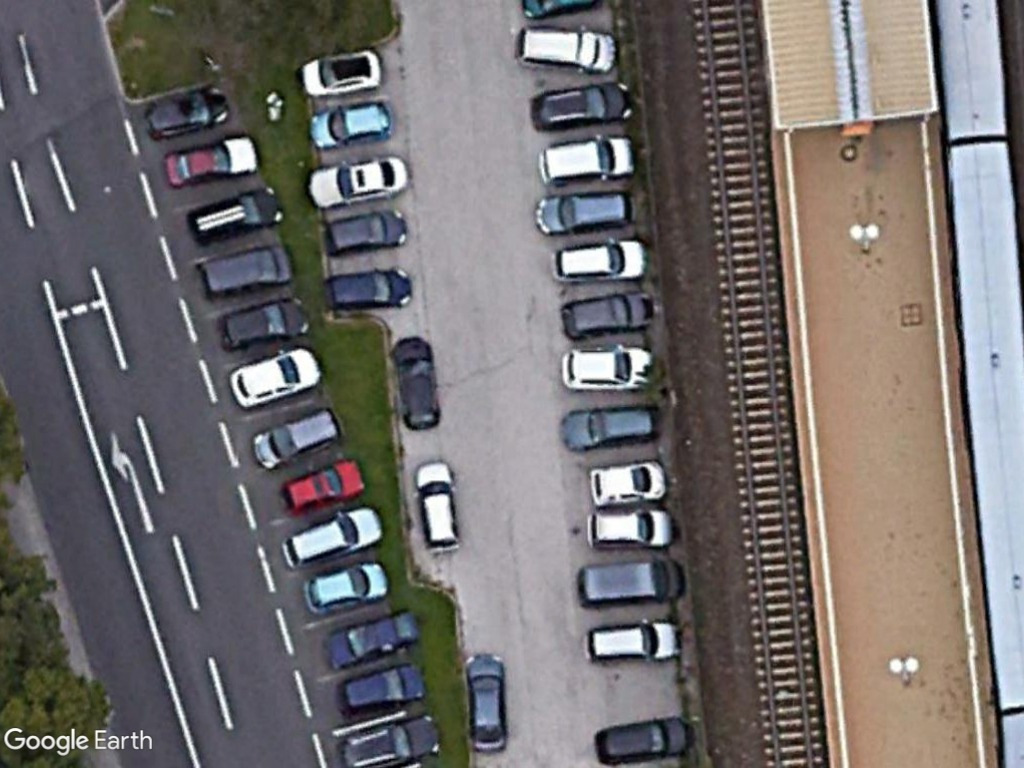car: (275, 501, 386, 573), (228, 340, 324, 412), (246, 404, 344, 473), (334, 711, 448, 768), (186, 183, 288, 246), (158, 130, 261, 191), (304, 152, 410, 211), (324, 606, 423, 669), (214, 291, 311, 354), (527, 80, 639, 134), (535, 132, 643, 188), (558, 401, 663, 457), (527, 185, 637, 238), (589, 713, 695, 768), (299, 557, 390, 620), (578, 616, 685, 669), (335, 656, 431, 715), (557, 342, 659, 396), (462, 647, 511, 759), (138, 84, 231, 143), (280, 457, 368, 519), (512, 24, 621, 74), (388, 335, 443, 433), (413, 456, 465, 557), (547, 235, 652, 285), (559, 288, 657, 341), (306, 96, 396, 153), (297, 45, 386, 100), (322, 265, 417, 315), (322, 206, 413, 257), (587, 455, 672, 508), (584, 505, 677, 550)
van: (571, 555, 689, 611), (195, 239, 296, 299)
